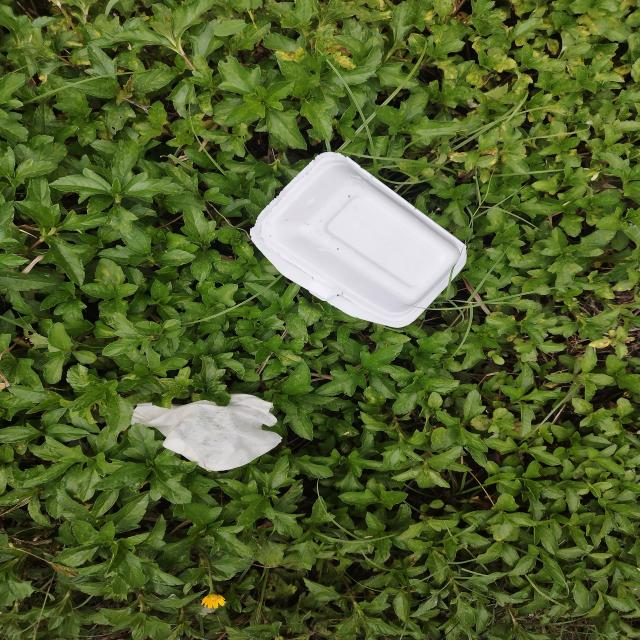foam box: (249, 152, 468, 330)
napkin: (129, 392, 285, 473)
